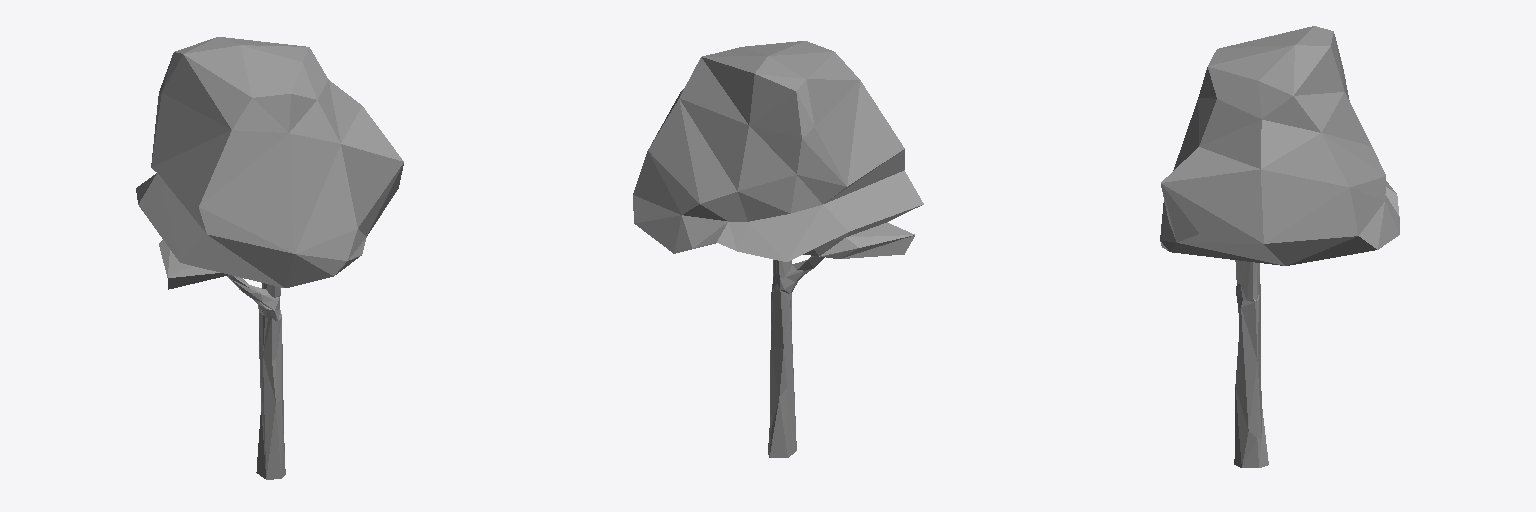
File: tree1.obj
3 renders of one model, left to right at view 1: azimuth 30°, elevation 25°; view 2: azimuth 150°, elevation 25°; view 3: azimuth 270°, elevation 25°, orthographic.
Parts seen in each view (by area): view 1: tree1.001; view 2: tree1.001; view 3: tree1.001.
Boxes of the visible parts, x1=… form: tree1.001: x1=136, y1=37, x2=403, y2=479; tree1.001: x1=633, y1=41, x2=923, y2=457; tree1.001: x1=1160, y1=26, x2=1399, y2=467.
Size of the model in its own units: 15.26 by 25.6 by 13.43.